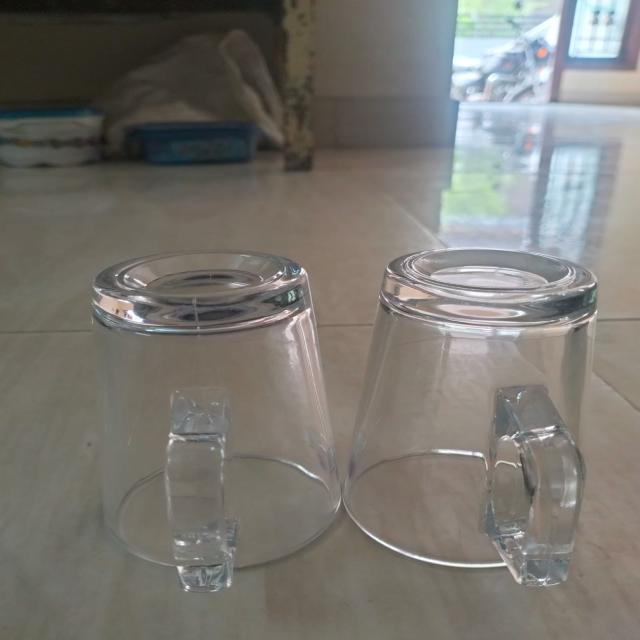glass-VX4N: (84, 247, 350, 592), (363, 251, 619, 587)
